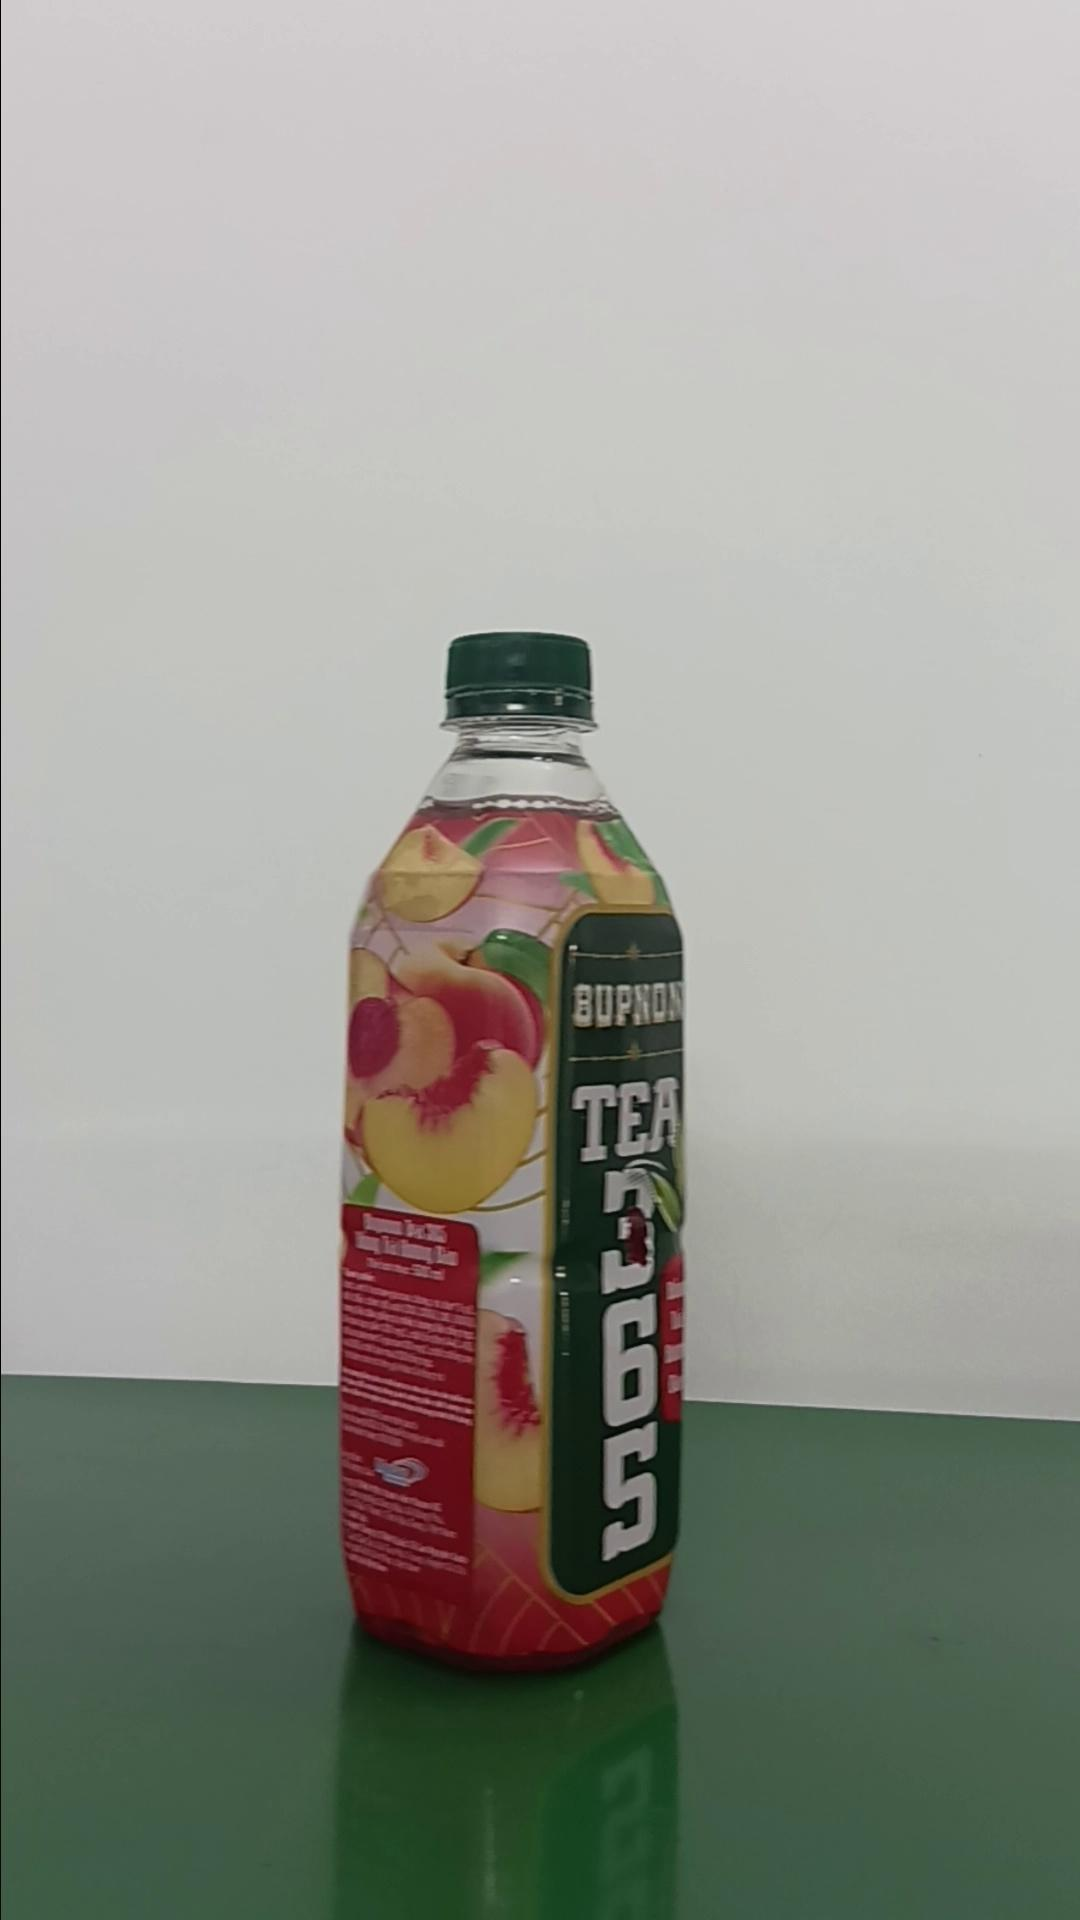loi rach va lap chai: (335, 628, 691, 1679)
